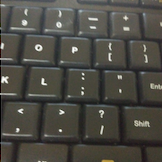ImgView: (1, 1, 161, 161)
